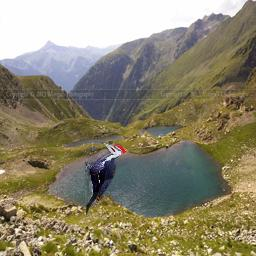Woodpecker: (85, 142, 130, 217)
